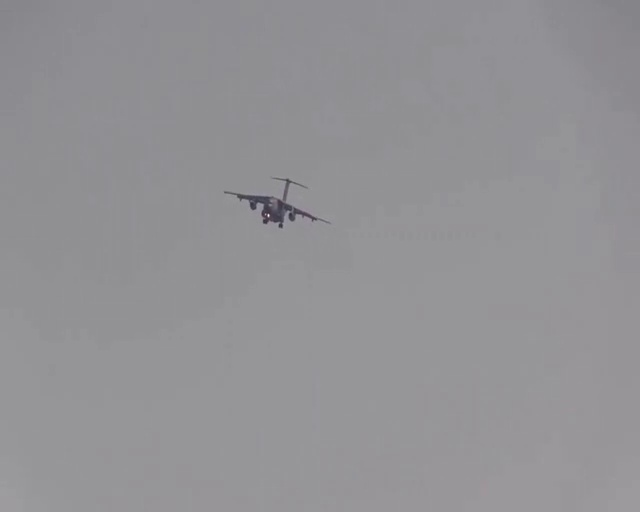AIRPLANE: (223, 176, 331, 228)
